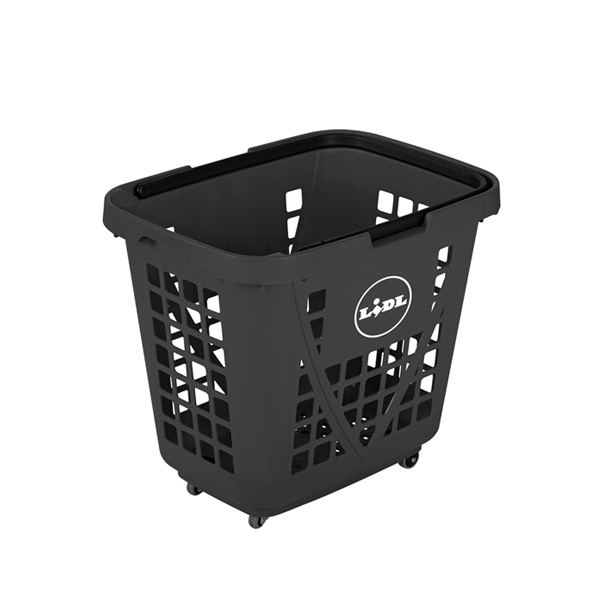with_basket: (89, 121, 529, 550)
